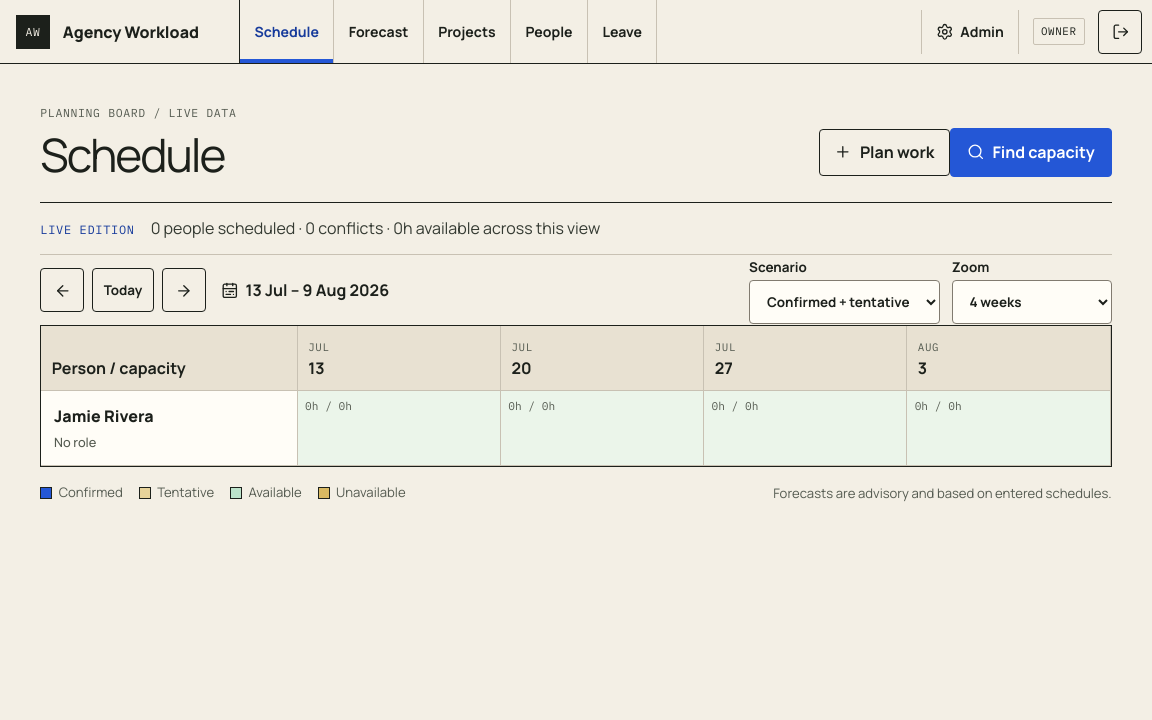
it: Agency Workload app routes › never selects an unusable project and disables allocation when none are allocatable
What coordinates should you click on to do the following:
click the button "Plan work"
I would click on:
 (884, 152)
Its box is [819, 129, 950, 176].
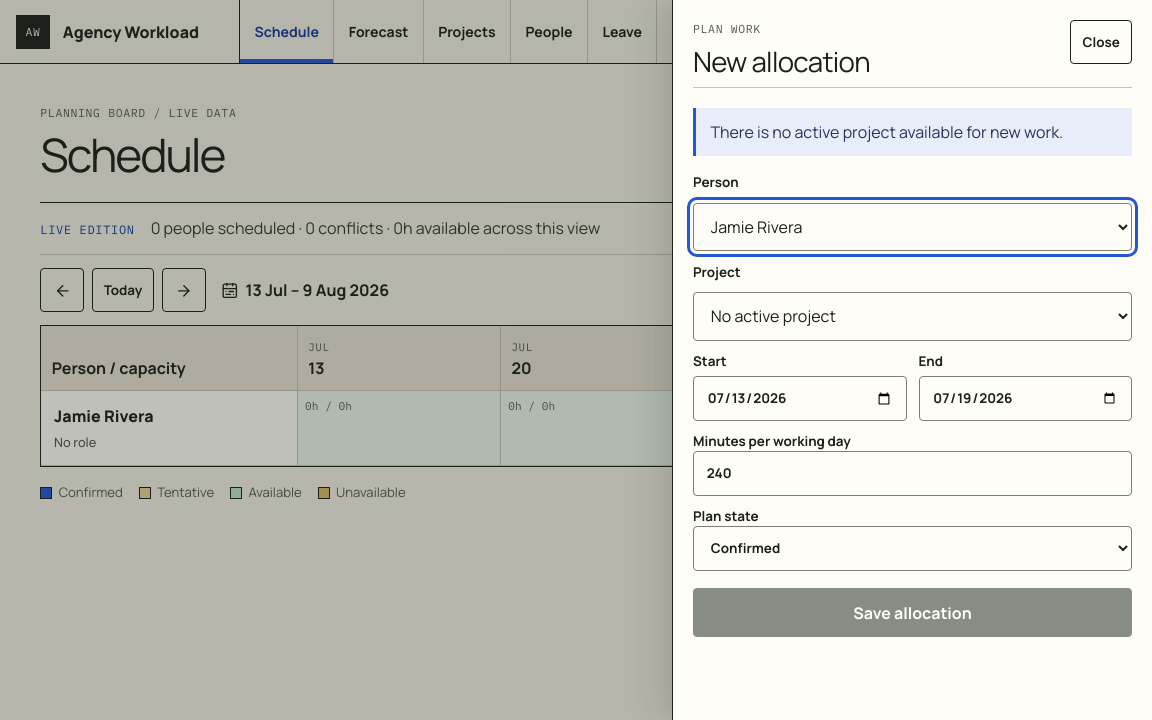
Now the button "Save allocation" is disabled, box [693, 588, 1132, 637]
Now the text "There is no active project available for new work." is shown, box [693, 108, 1132, 156]
